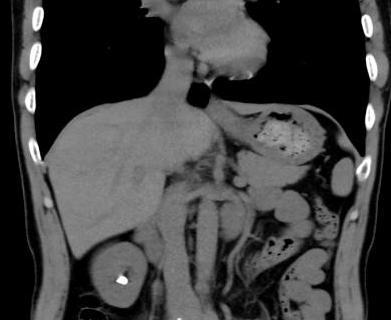Tas_Var: (115, 274, 129, 286)
